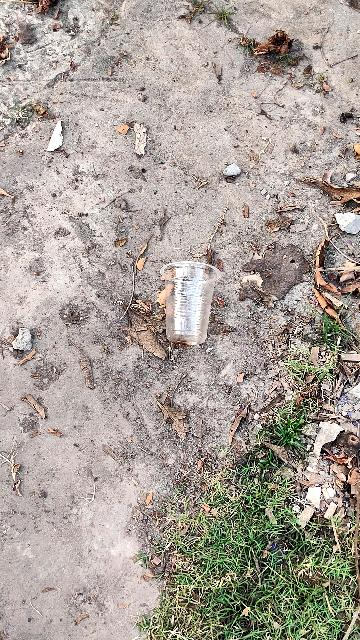bottle: (163, 257, 218, 351)
